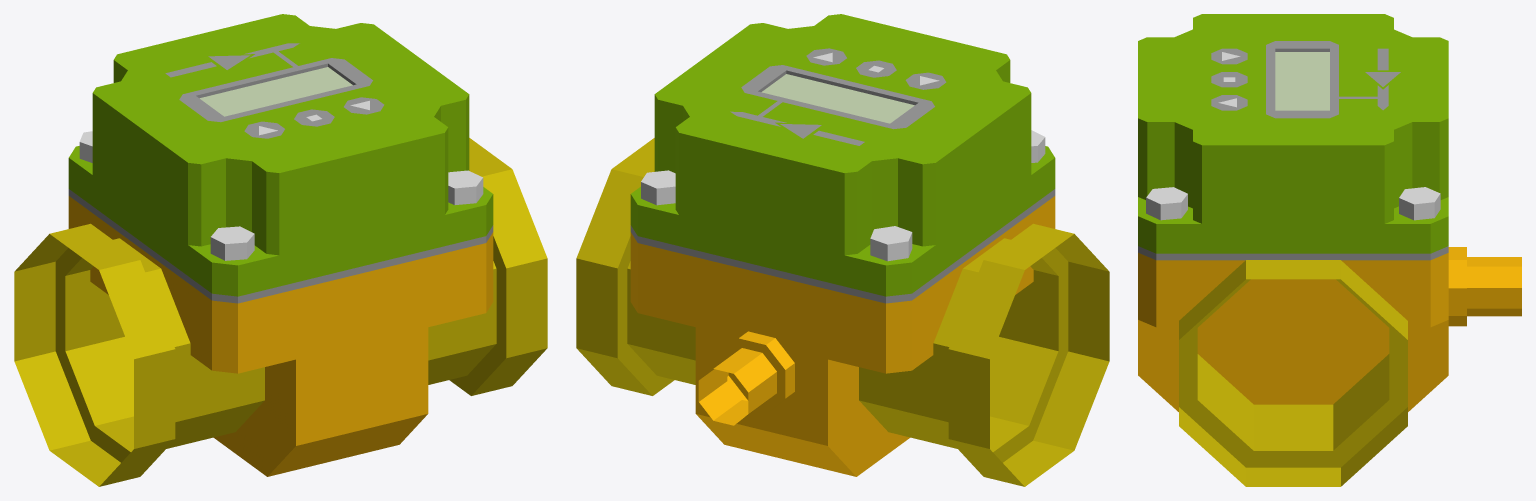
File: fpe_pressure_regulator.dae
3 views of the same model, side by side, from view 1: azimuth 30°, elevation 25°; view 2: azimuth 150°, elevation 25°; view 3: azimuth 270°, elevation 25° (orthographic). The views are drawn at different scales.
Visible parts, largest first — view 1: pressure_regulator; view 2: pressure_regulator; view 3: pressure_regulator.
Boxes of the visible parts, bbox=[...] form: pressure_regulator: bbox=[14, 14, 547, 486]; pressure_regulator: bbox=[576, 14, 1109, 486]; pressure_regulator: bbox=[1138, 14, 1521, 486].
Bounding box in the file's own units: 0.25 × 0.21 × 0.19.
